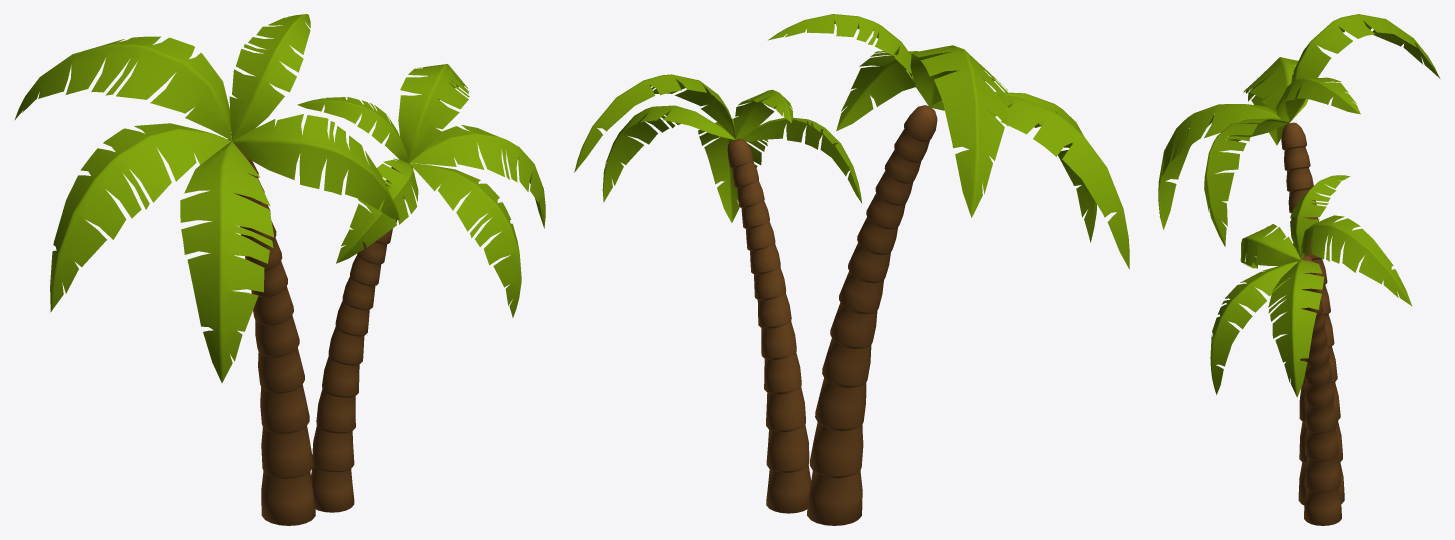
Rendered from Palm_tree_v_4.FBX.
The picture shows the model from 3 angles, left to right: view 1: azimuth 30°, elevation 25°; view 2: azimuth 150°, elevation 25°; view 3: azimuth 270°, elevation 25°; orthographic projection. The views are drawn at different scales.
Parts seen in each view (by area): view 1: Palm_leaf_01, Palm_leaf_00, Palm_trunk_01, Palm_trunk_00; view 2: Palm_leaf_01, Palm_trunk_01, Palm_leaf_00, Palm_trunk_00; view 3: Palm_leaf_00, Palm_leaf_01, Palm_trunk_00, Palm_trunk_01.
Boxes of the visible parts, <box> form: Palm_leaf_01: <box>14,14,399,382</box>; Palm_leaf_00: <box>297,64,545,317</box>; Palm_trunk_01: <box>223,137,315,525</box>; Palm_trunk_00: <box>311,161,413,512</box>; Palm_leaf_01: <box>768,14,1129,269</box>; Palm_trunk_01: <box>807,105,937,525</box>; Palm_leaf_00: <box>574,74,862,222</box>; Palm_trunk_00: <box>727,139,811,513</box>; Palm_leaf_00: <box>1210,175,1412,397</box>; Palm_leaf_01: <box>1158,14,1440,246</box>; Palm_trunk_00: <box>1300,255,1341,525</box>; Palm_trunk_01: <box>1281,122,1344,505</box>.
Size of the model in its own units: 3087 by 2891 by 1751.
